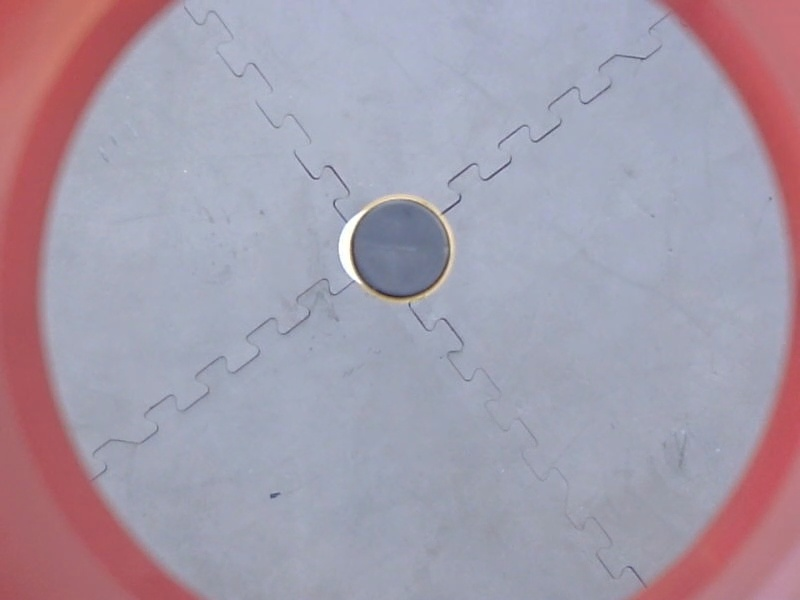tip: (345, 192, 459, 309)
